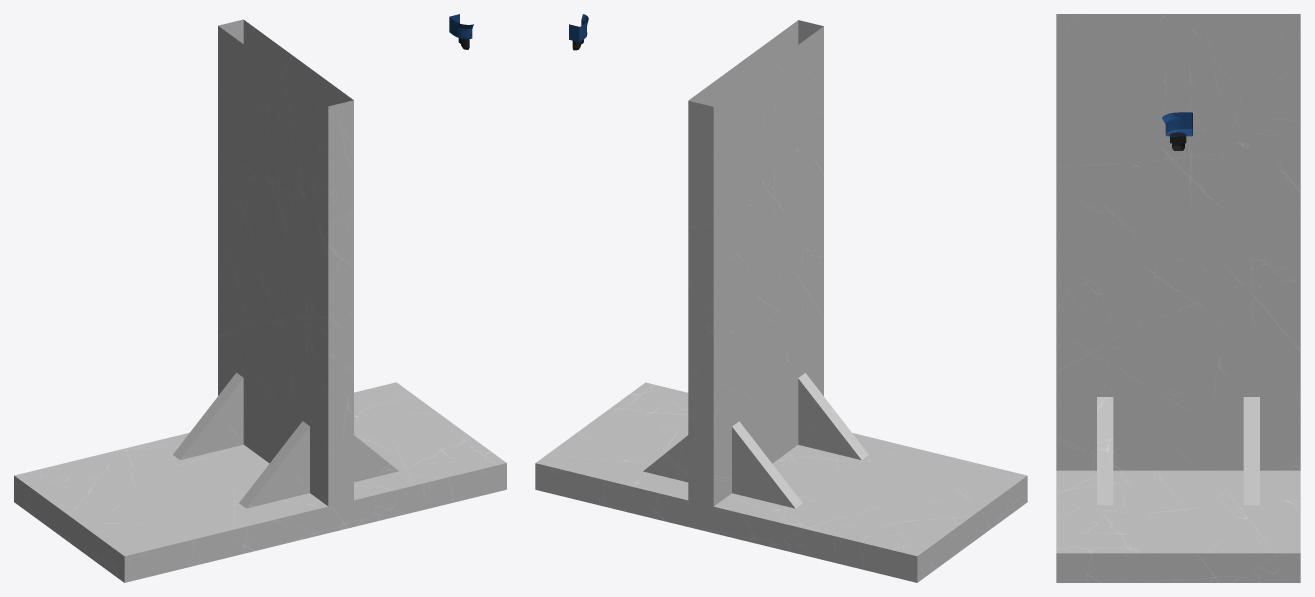
The model's file is Cube12_TightenerStation.glb.
The picture shows the model from 3 angles, left to right: view 1: azimuth 30°, elevation 25°; view 2: azimuth 150°, elevation 25°; view 3: azimuth 270°, elevation 25°; orthographic projection. The views are drawn at different scales.
Visible parts, largest first — view 1: color-2.003; view 2: color-2.003; view 3: color-2.003.
Boxes of the visible parts, x1,y1,x2,y2 form: color-2.003: [14, 14, 506, 582]; color-2.003: [535, 14, 1027, 582]; color-2.003: [1056, 14, 1300, 582].
Size of the model in its own units: 0.3118 by 0.32 by 0.15.
3 materials, 3 textured.
